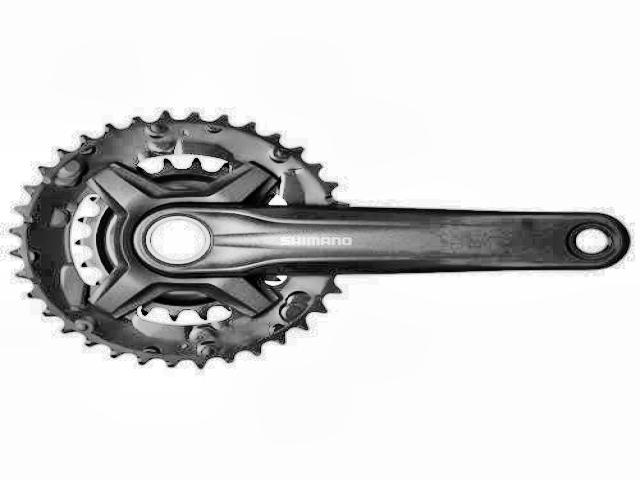cranks_set: (1, 109, 632, 369)
